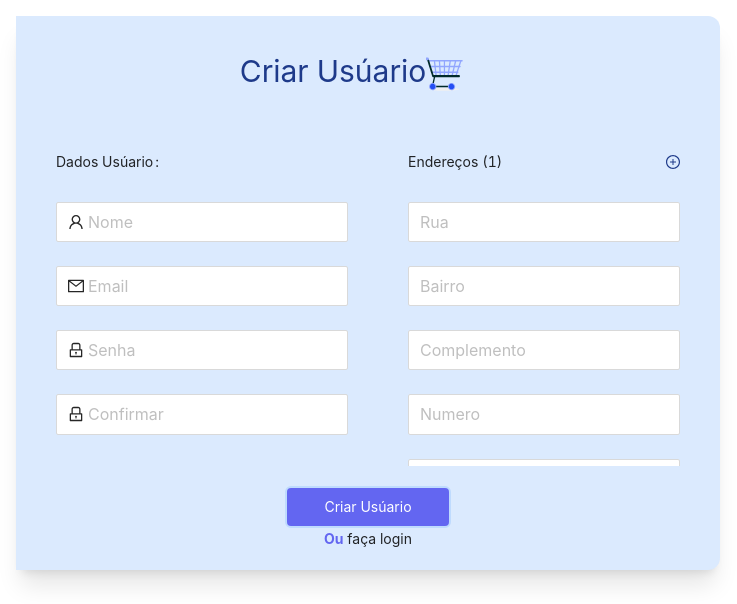
Test case: Register Component › Forms validation › Name › should show error when name is empty if submit button
This screenshot has width=737, height=604.
Step 1. Click the button with test id "submit-component" → (368, 507), box [285, 486, 451, 528]
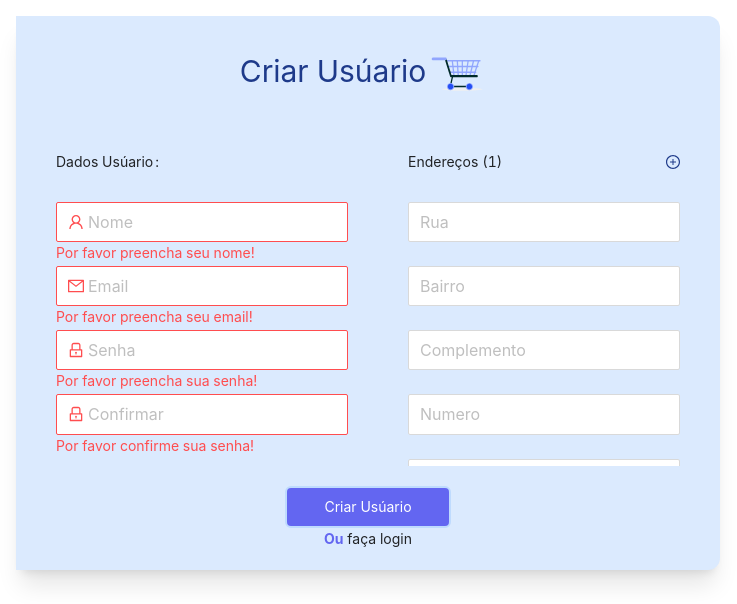
Check: the text "Por favor preencha seu nome!" is shown, box [56, 244, 255, 261]
